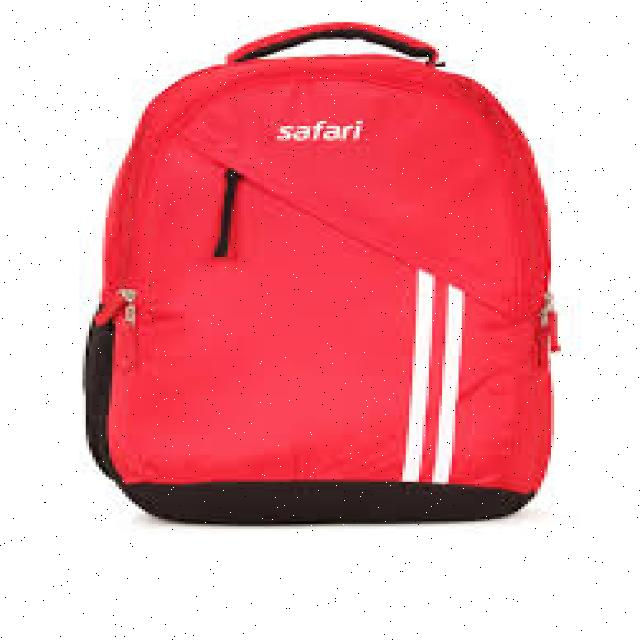backpack: (79, 20, 561, 524)
